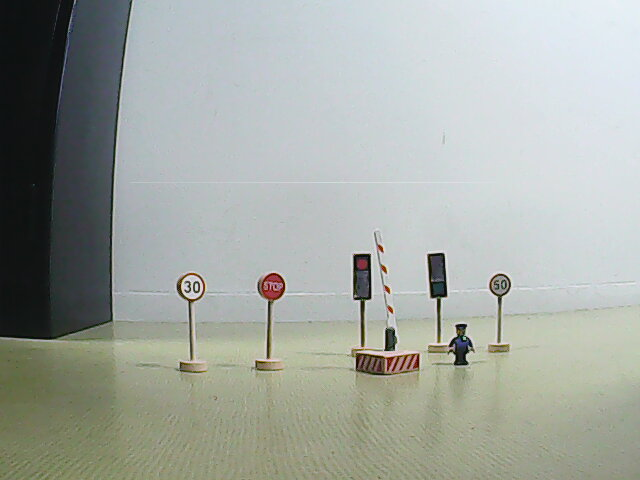barrier_up: (344, 227, 422, 380)
green_traffic_sign: (427, 253, 448, 298)
person: (443, 319, 480, 372)
red_traffic_sign: (353, 253, 371, 302)
sign_30: (176, 271, 205, 303)
sign_50: (488, 272, 510, 299)
stop_sign: (257, 271, 286, 303)
